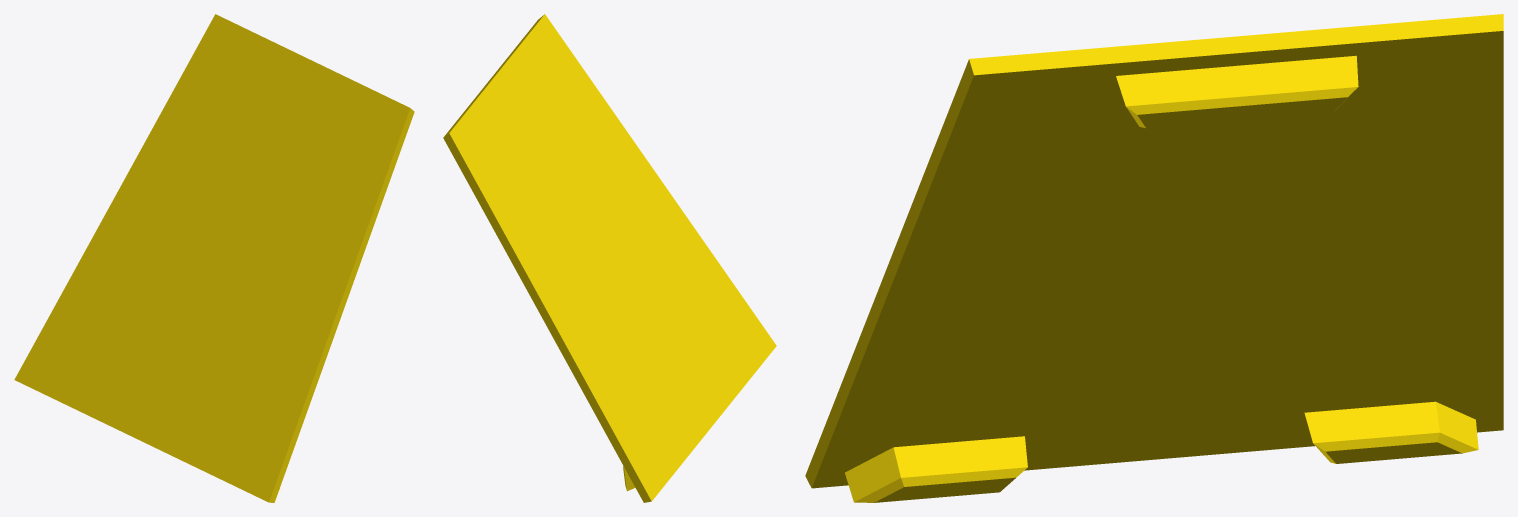
The model's file is Baluminaria-Seg05.fbx.
The picture shows the model from 3 angles, left to right: view 1: azimuth 30°, elevation 25°; view 2: azimuth 150°, elevation 25°; view 3: azimuth 270°, elevation 25°; orthographic projection. The views are drawn at different scales.
Parts seen in each view (by area): view 1: Seg05; view 2: Seg05; view 3: Seg05.
Boxes of the visible parts, left/top/right/bottom form: Seg05: left=14, top=14, right=414, bottom=502; Seg05: left=443, top=14, right=776, bottom=502; Seg05: left=805, top=14, right=1503, bottom=502.
Bounding box in the file's own units: 2420 × 2884 × 3093.
